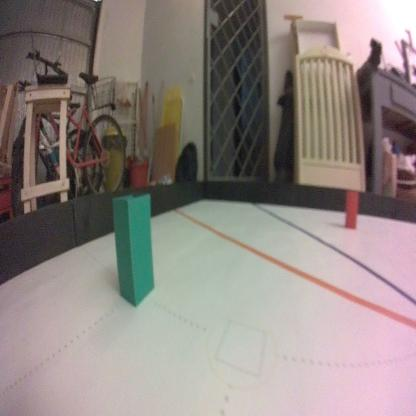green: (110, 188, 156, 309)
red: (344, 187, 360, 231)
